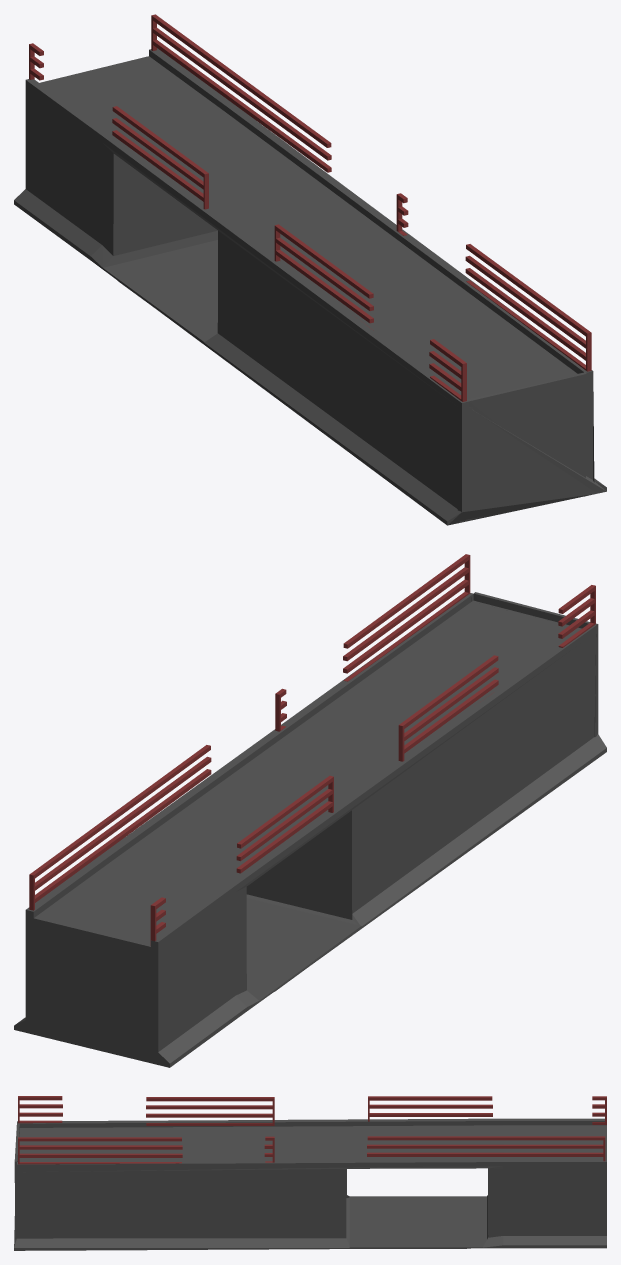
Rendered from LVL4_conveyor_hole.fbx.
3 renders of one model, top to bottom at view 1: azimuth 30°, elevation 25°; view 2: azimuth 150°, elevation 25°; view 3: azimuth 270°, elevation 25°, orthographic. The views are drawn at different scales.
Visible parts, largest first — view 1: polySurface199, polySurface195, polySurface191, polySurface193, polySurface194, polySurface190; view 2: polySurface199, polySurface195, polySurface191, polySurface193, polySurface194, polySurface190; view 3: polySurface199, polySurface195, polySurface191, polySurface193, polySurface194, polySurface190, polySurface196.
Part boxes in pixels (x1=…): polySurface199: x1=14, y1=48, x2=606, y2=525; polySurface195: x1=151, y1=14, x2=331, y2=172; polySurface191: x1=465, y1=244, x2=591, y2=371; polySurface193: x1=274, y1=224, x2=373, y2=330; polySurface194: x1=112, y1=106, x2=208, y2=209; polySurface190: x1=429, y1=339, x2=466, y2=401; polySurface199: x1=14, y1=592, x2=606, y2=1067; polySurface195: x1=29, y1=745, x2=211, y2=910; polySurface191: x1=343, y1=554, x2=470, y2=681; polySurface193: x1=398, y1=655, x2=498, y2=761; polySurface194: x1=236, y1=775, x2=333, y2=873; polySurface190: x1=558, y1=585, x2=595, y2=647; polySurface199: x1=14, y1=1118, x2=606, y2=1250; polySurface195: x1=367, y1=1136, x2=605, y2=1161; polySurface191: x1=18, y1=1137, x2=182, y2=1164; polySurface193: x1=146, y1=1097, x2=274, y2=1125; polySurface194: x1=368, y1=1096, x2=492, y2=1121; polySurface190: x1=18, y1=1096, x2=62, y2=1123; polySurface196: x1=592, y1=1096, x2=606, y2=1124.
Size of the model in its own units: 8.27 by 8.22 by 40.64.
